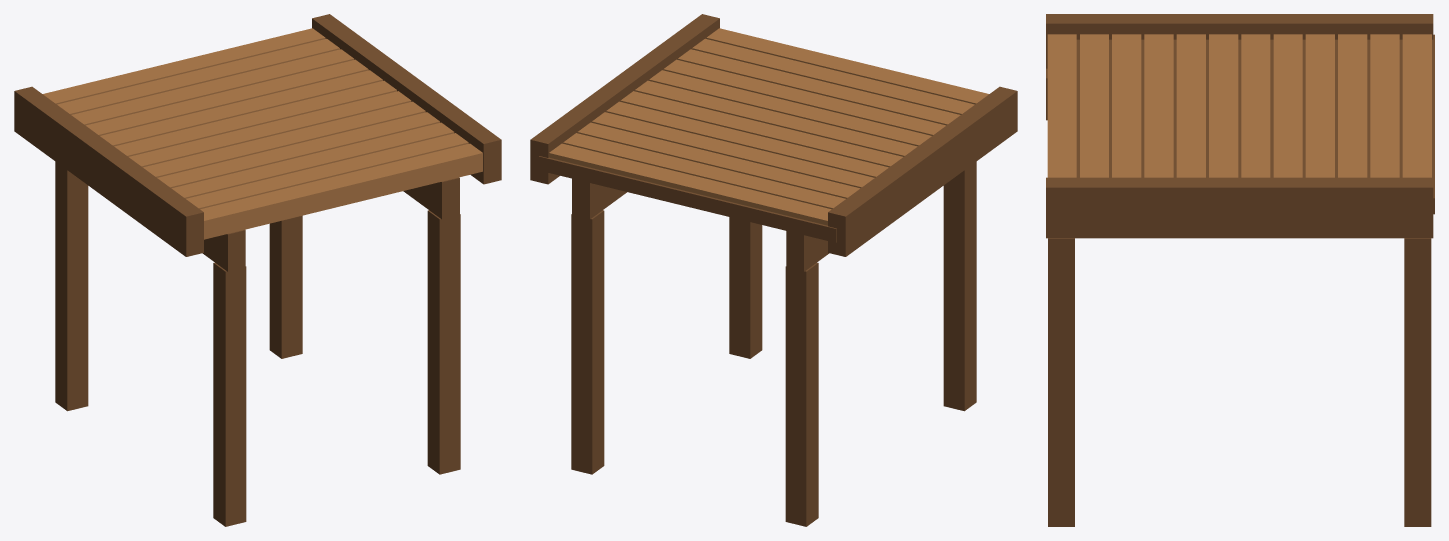
File: kit-boardwalk-low.glb
3 renders of one model, left to right at view 1: azimuth 30°, elevation 25°; view 2: azimuth 150°, elevation 25°; view 3: azimuth 270°, elevation 25°, orthographic. The views are drawn at different scales.
Parts seen in each view (by area): view 1: boardwalk.001; view 2: boardwalk.001; view 3: boardwalk.001.
Part boxes in pixels (<box>): boardwalk.001: <box>14,14,501,526</box>; boardwalk.001: <box>530,14,1017,526</box>; boardwalk.001: <box>1046,14,1434,526</box>.
Size of the model in its own units: 1.06 by 1.03 by 1.
